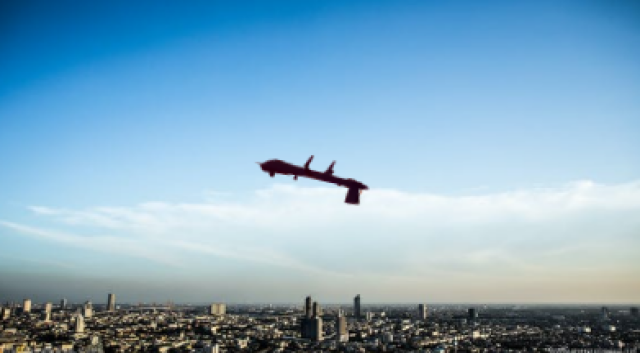military drone: (254, 154, 370, 205)
